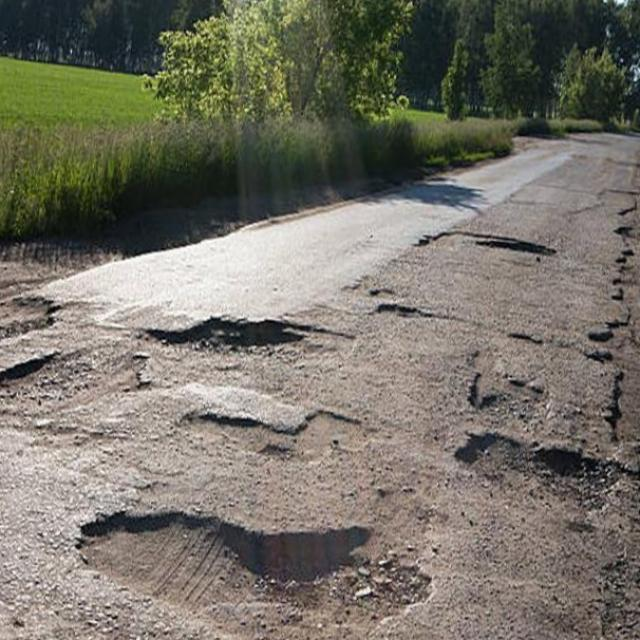Lubang: (69, 508, 432, 640), (142, 319, 340, 385), (457, 439, 621, 512)
Pinggir: (588, 167, 640, 640)
